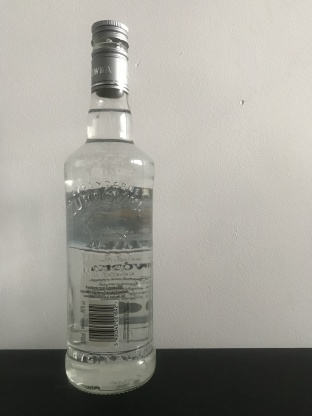nakretka: (89, 18, 130, 97), (90, 18, 129, 98)
